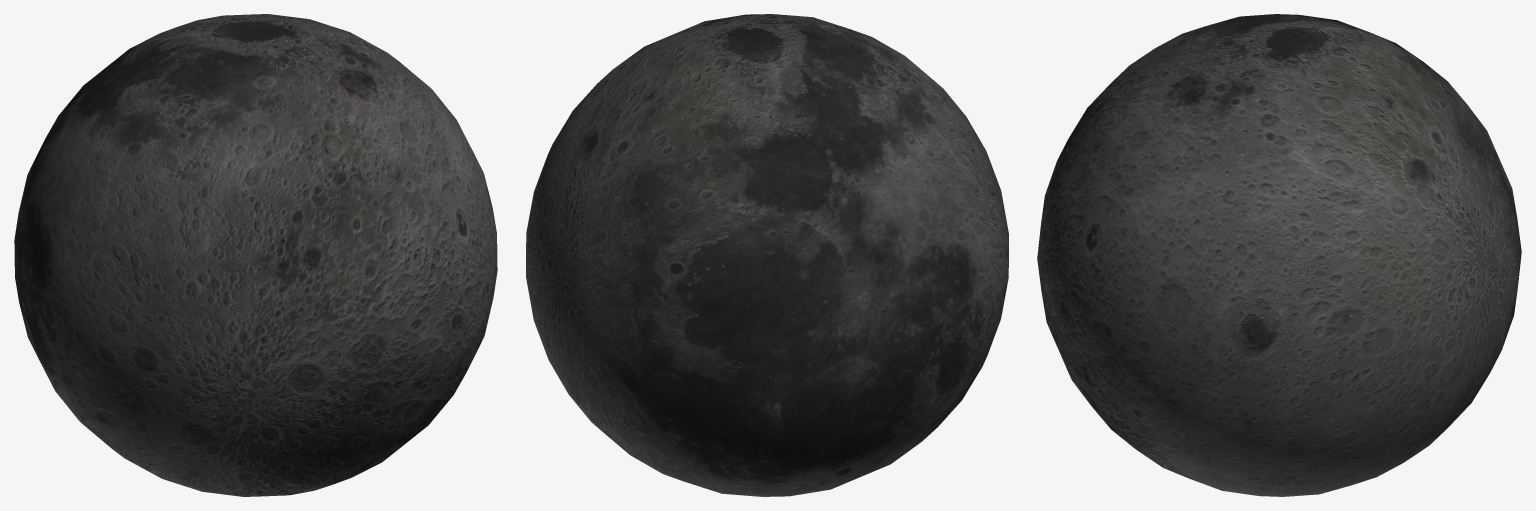
File: moon.obj
The picture shows the model from 3 angles, left to right: view 1: azimuth 30°, elevation 25°; view 2: azimuth 150°, elevation 25°; view 3: azimuth 270°, elevation 25°; orthographic projection.
Parts seen in each view (by area): view 1: Moon_Cube.002; view 2: Moon_Cube.002; view 3: Moon_Cube.002.
Part boxes in pixels (x1=…): Moon_Cube.002: x1=14, y1=14, x2=497, y2=496; Moon_Cube.002: x1=526, y1=14, x2=1008, y2=496; Moon_Cube.002: x1=1037, y1=14, x2=1521, y2=496.
Bounding box in the file's own units: 3.48 × 3.48 × 3.49.
